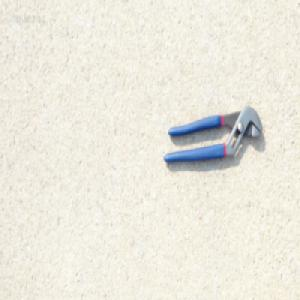Pliers: (162, 103, 263, 164)
